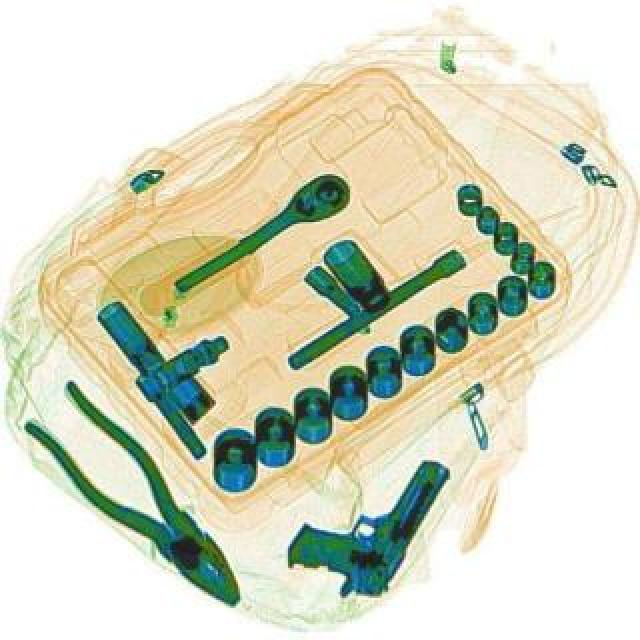gun: (274, 428, 452, 616)
wrench: (14, 382, 272, 622)
